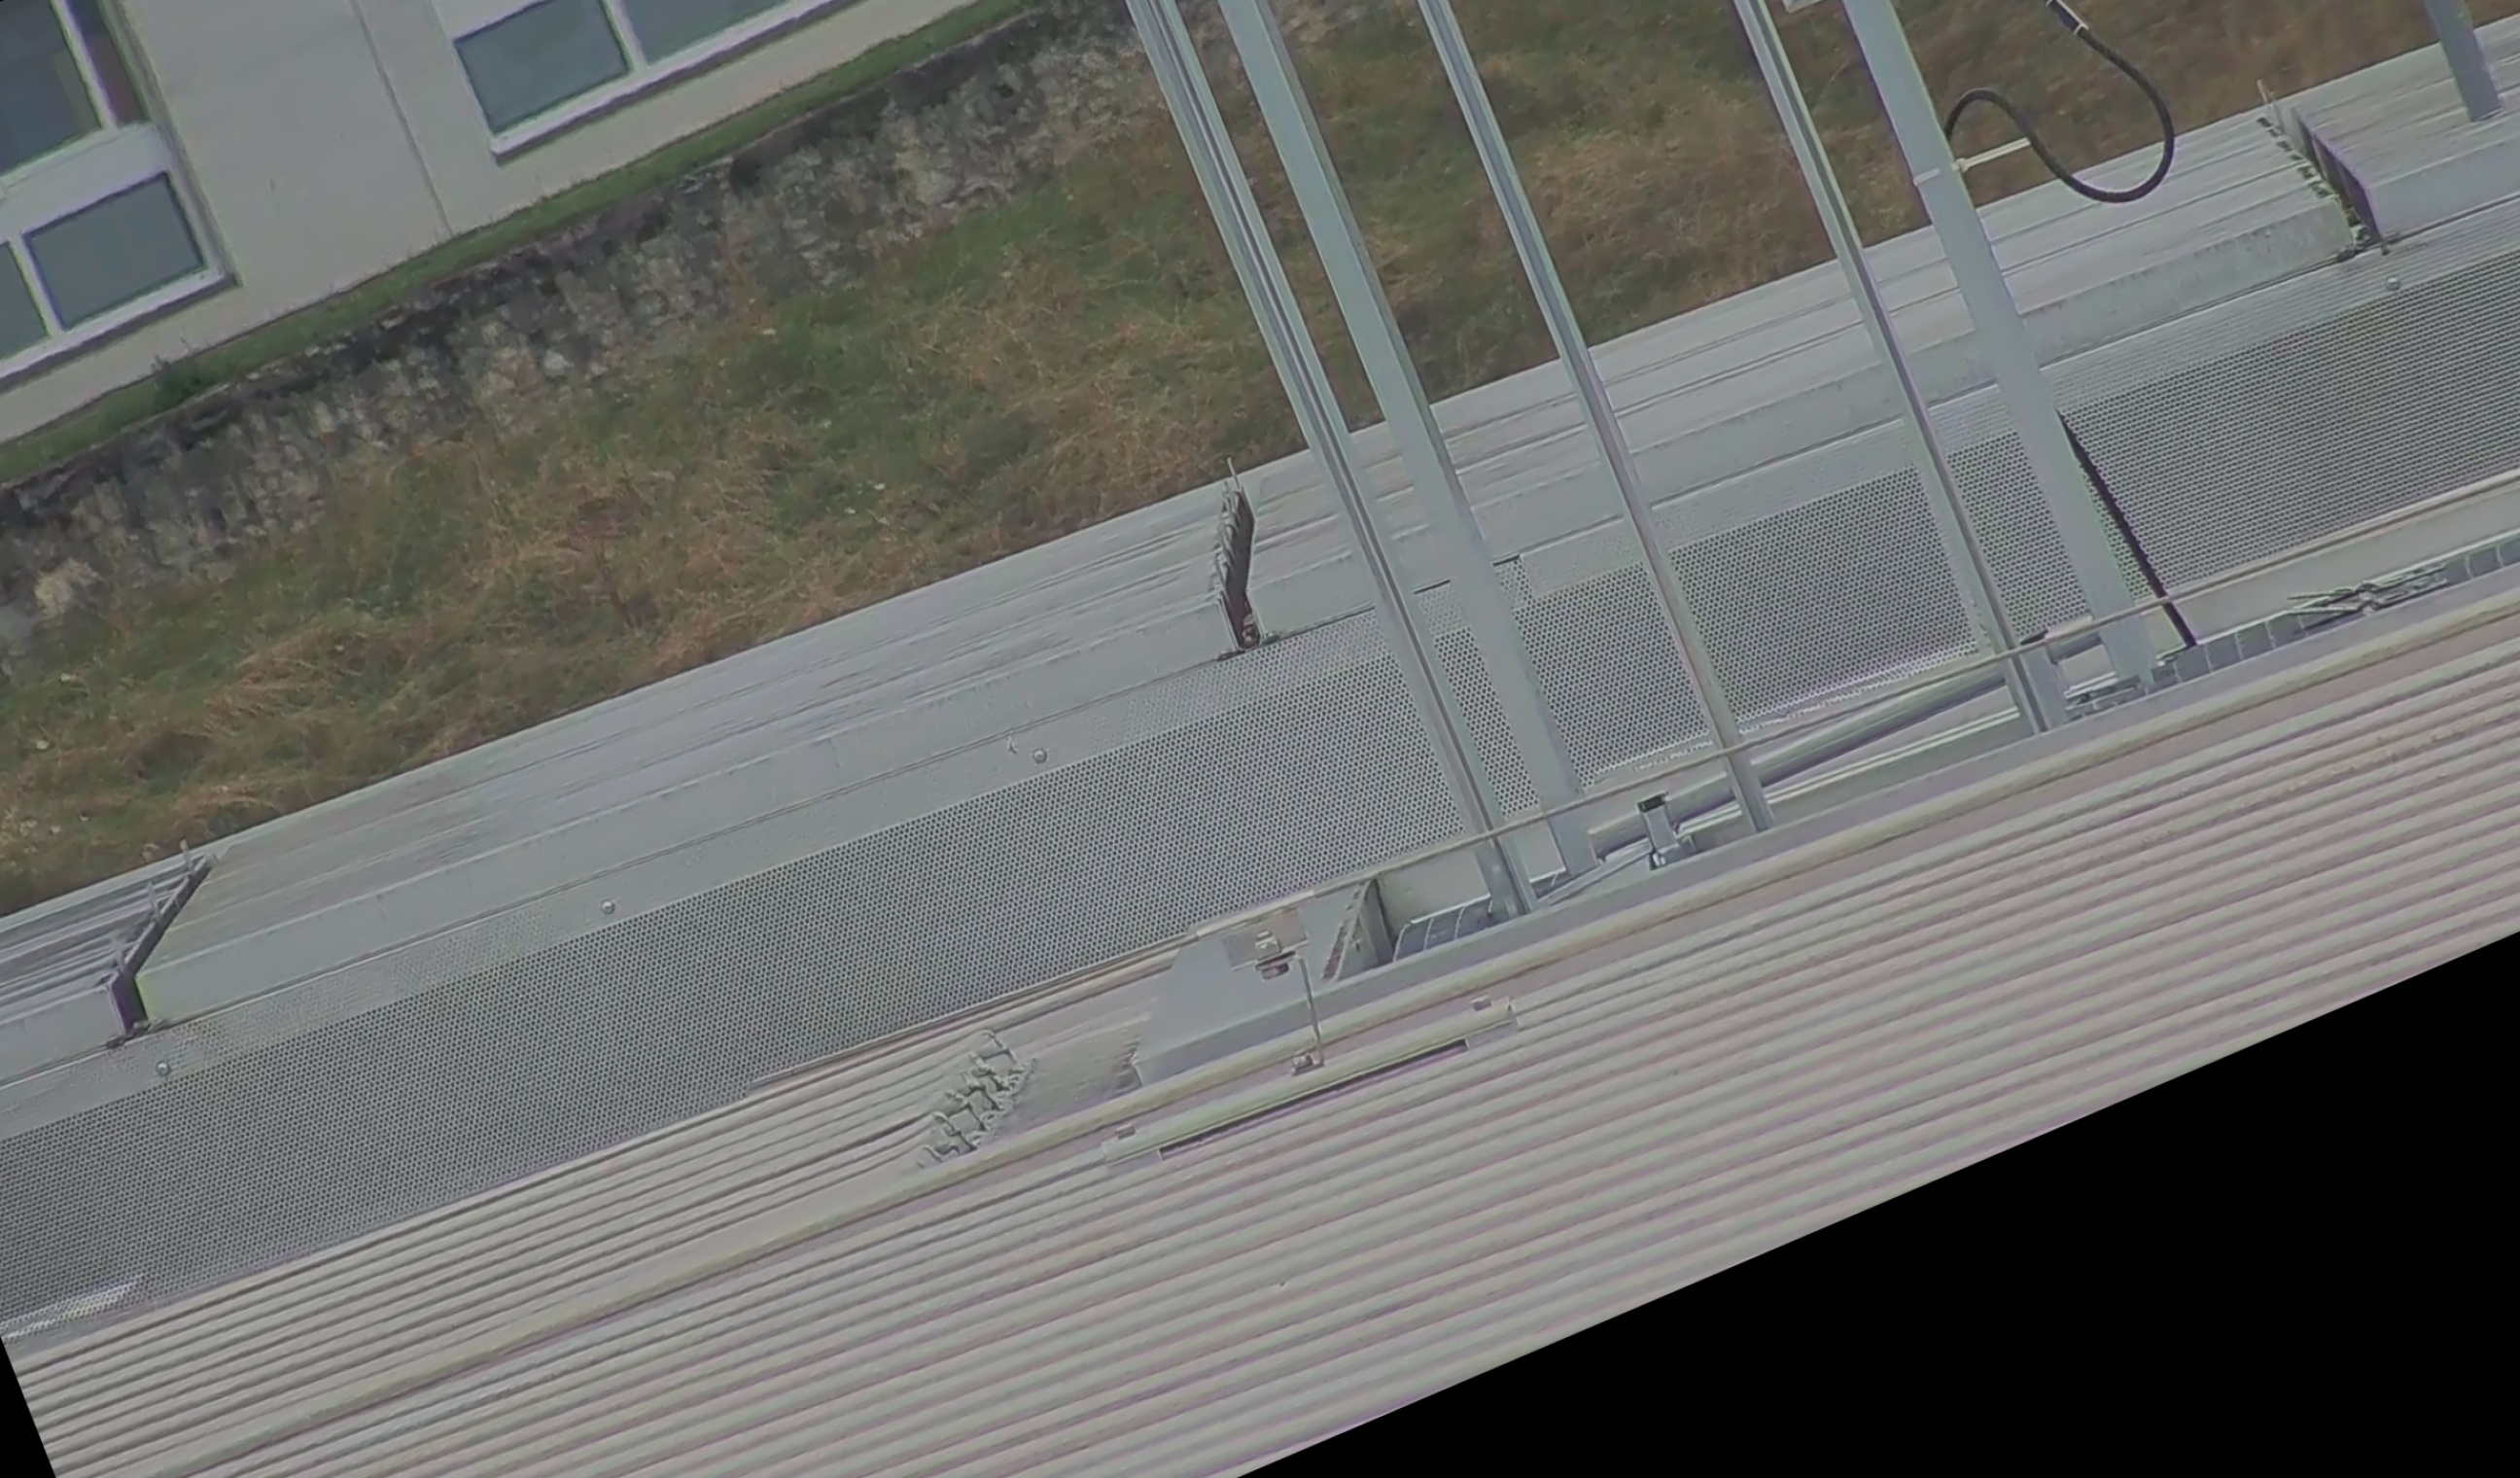Other: (1150, 452, 1329, 677)
